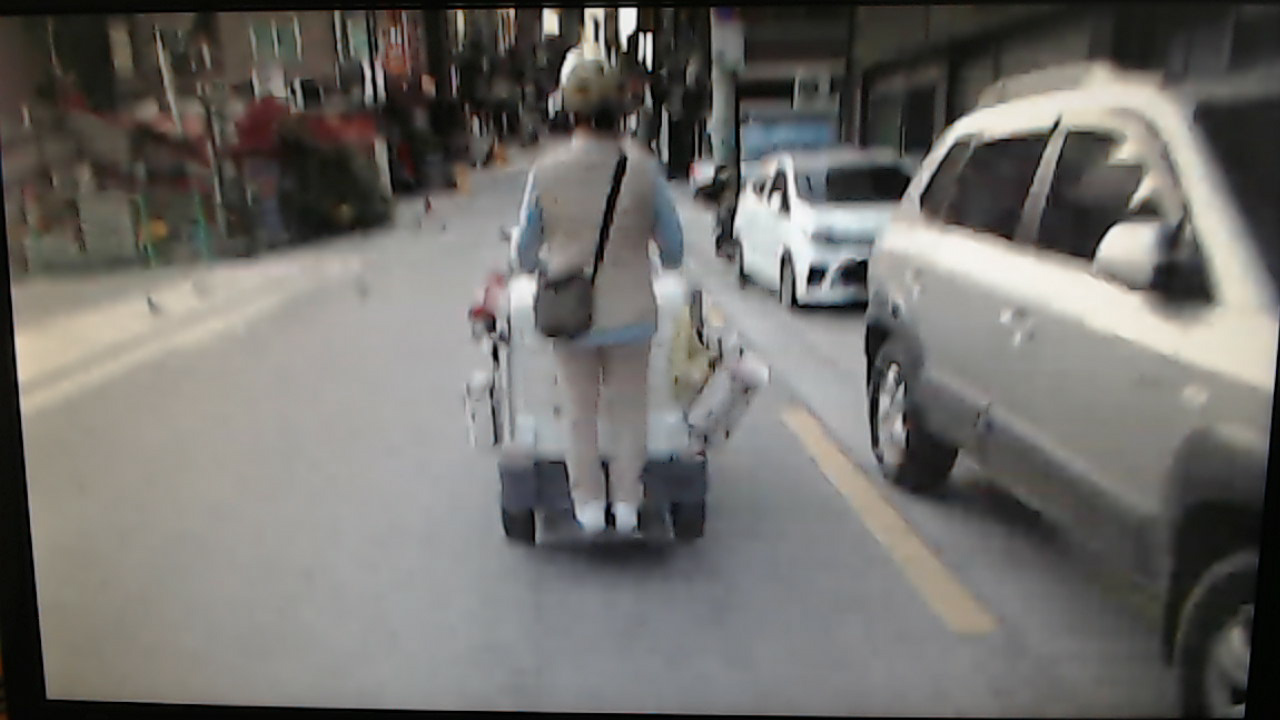Yakurut: (483, 41, 700, 551)
